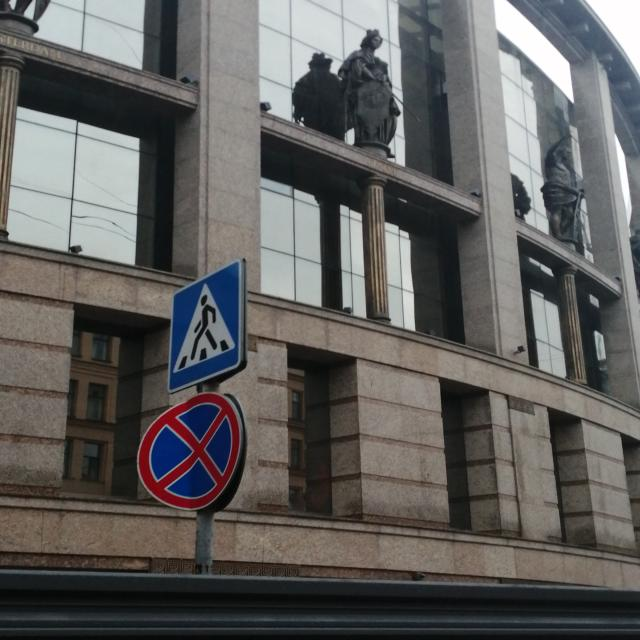road sign: (137, 393, 239, 509), (167, 258, 242, 393), (195, 510, 213, 574)
